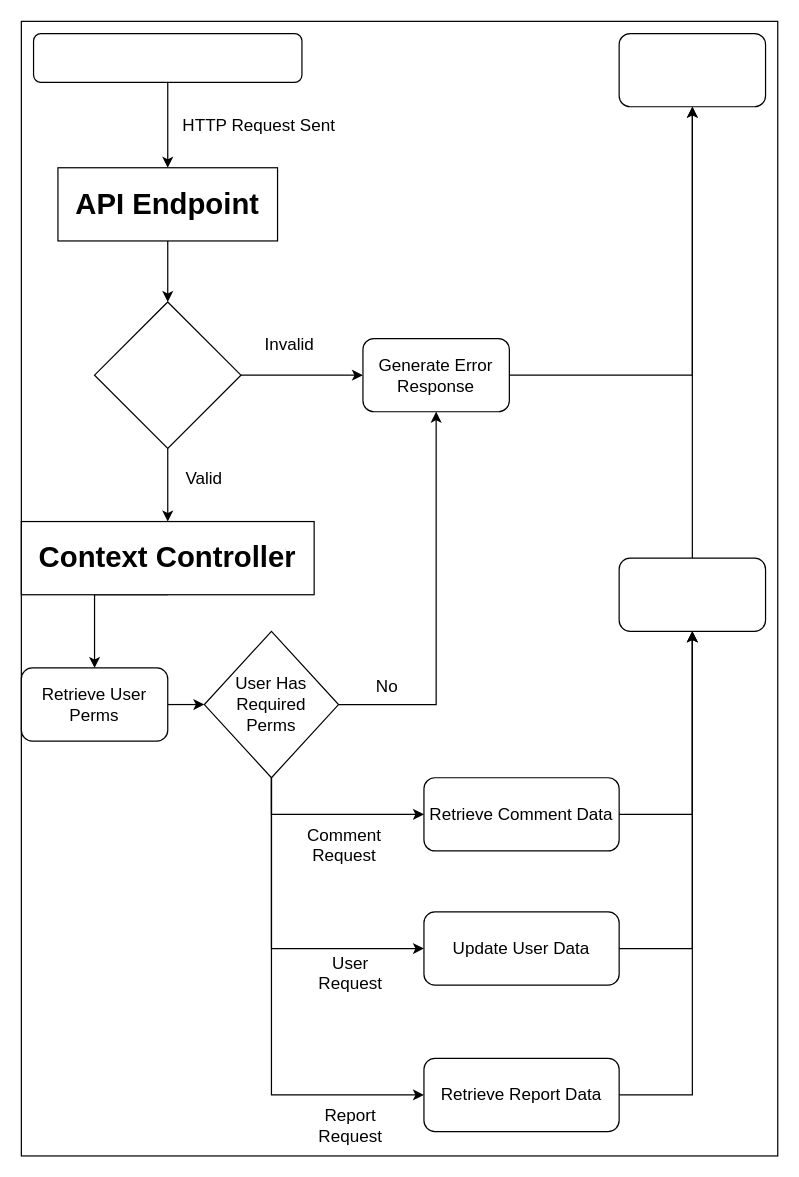
Some shapes in this 799 by 1177 pixel diagram are drawn without their labels. Here are the shapes that lost their labels. From the top down, the centre of each, then its label:
At [167,57]: "Client sends HTTP Request".
At [692,69]: "Send HTTP Response".
At [167,374]: "Request Validation".
At [692,594]: "Generate HTTP Response".
